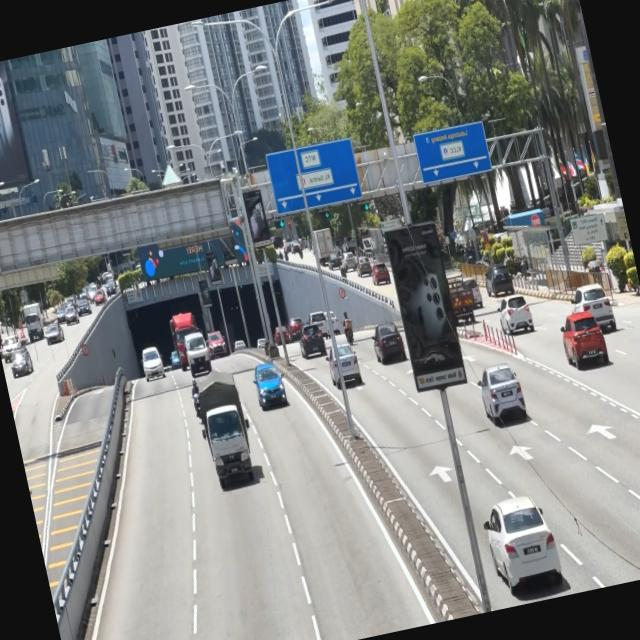Vehicle: (478, 489, 564, 594), (190, 367, 260, 493), (554, 307, 610, 376), (473, 359, 528, 428), (565, 277, 616, 336), (247, 352, 290, 416), (494, 290, 534, 339), (323, 338, 362, 388), (368, 319, 407, 366), (180, 329, 214, 381), (480, 257, 516, 300), (136, 343, 168, 385)
